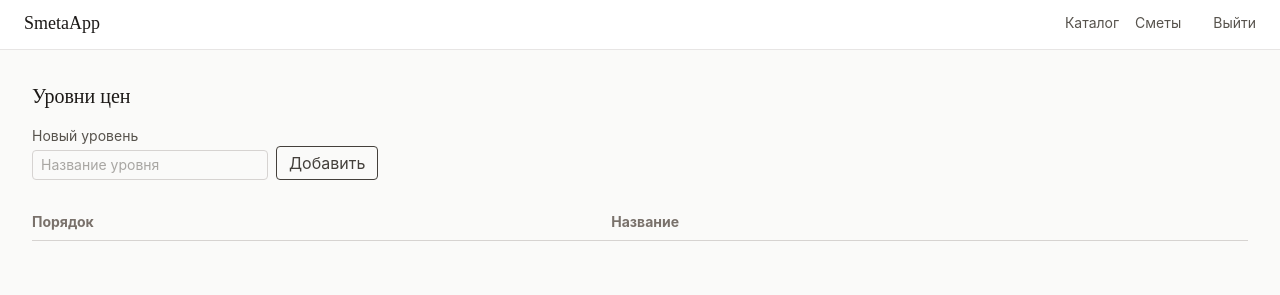
it: PriceLevelsPage › creates a new level and reloads
Expected: the text "Новый уровень" is shown, [32, 127, 138, 144]
In the field with placeholder "Название уровня": {"x": 150, "y": 165} [32, 150, 268, 180], type "Опт"
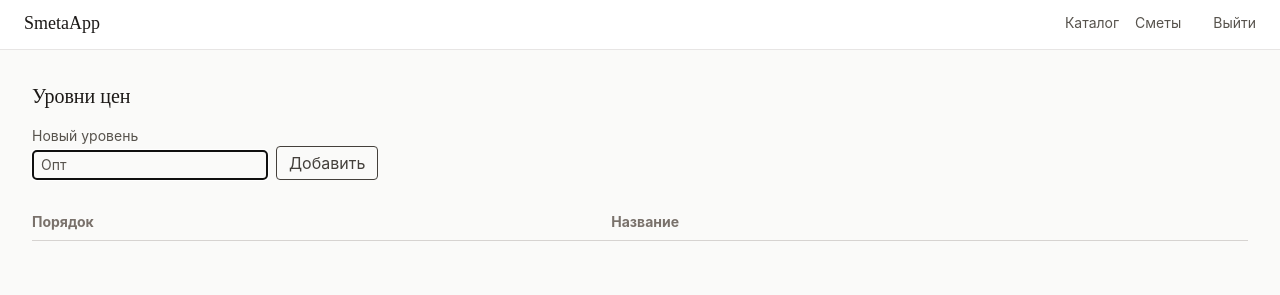
Click the button "Добавить": {"x": 327, "y": 163} [276, 146, 378, 180]
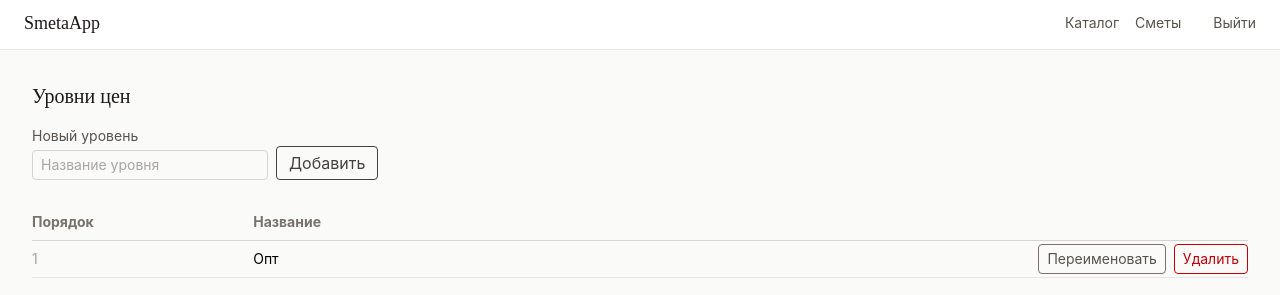
Result: the text "Опт" is shown at [253, 240, 496, 278]
